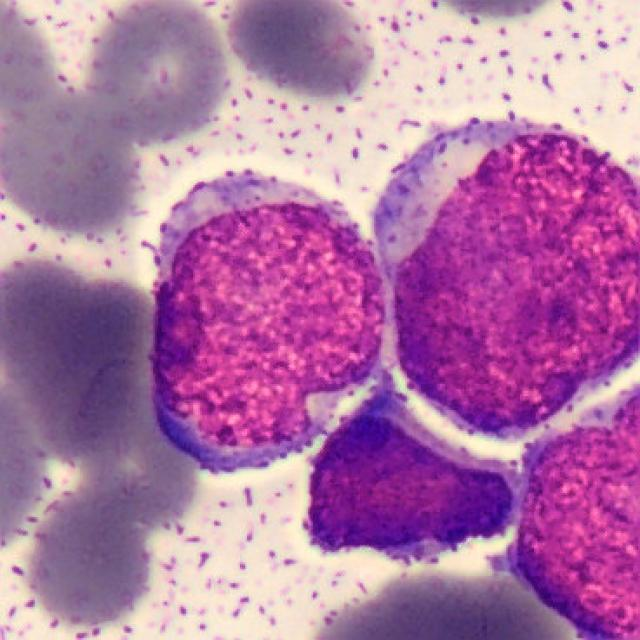Mieloblasto: (377, 119, 640, 439), (151, 178, 386, 476)
